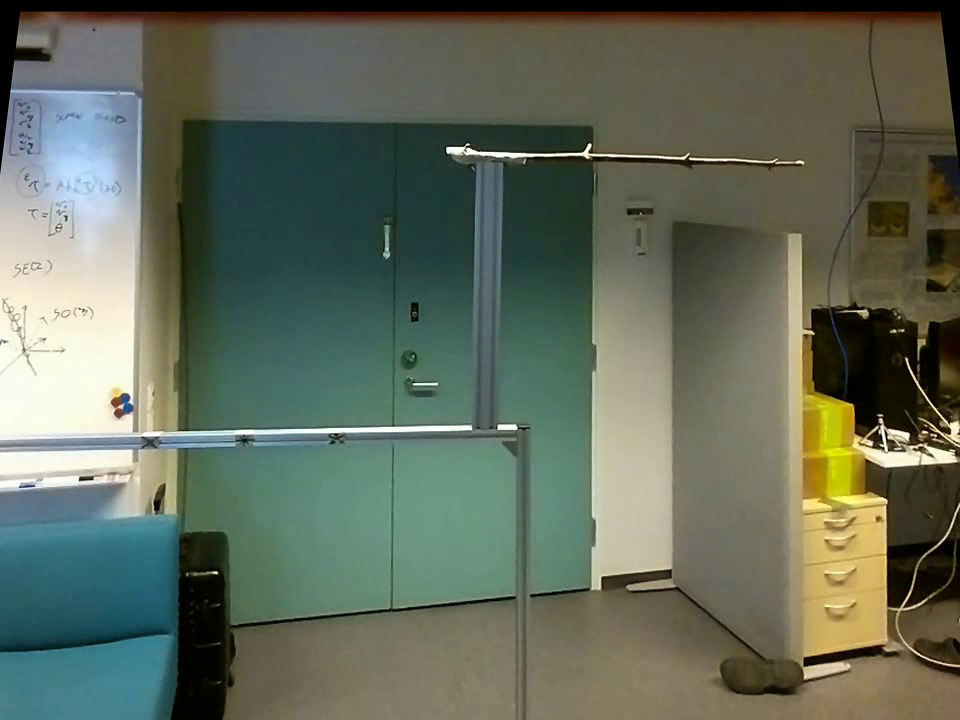aluminum_frame: (0, 417, 517, 464), (466, 164, 503, 424), (126, 85, 149, 484), (511, 417, 532, 717), (3, 460, 145, 498), (6, 80, 149, 99)
branch: (529, 129, 777, 176)
